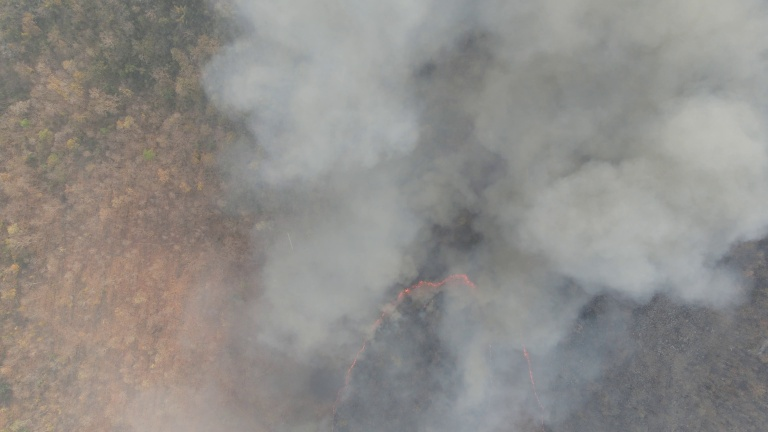fire: (319, 273, 487, 414), (515, 343, 544, 424)
smoke: (471, 1, 766, 332), (228, 1, 453, 356)
